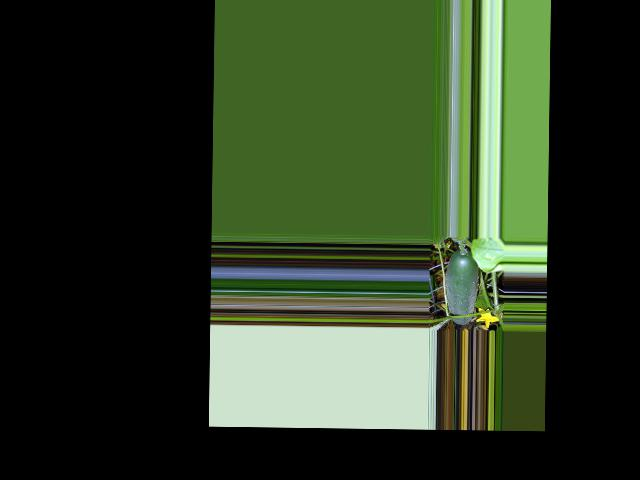cucumber: (444, 247, 478, 324)
